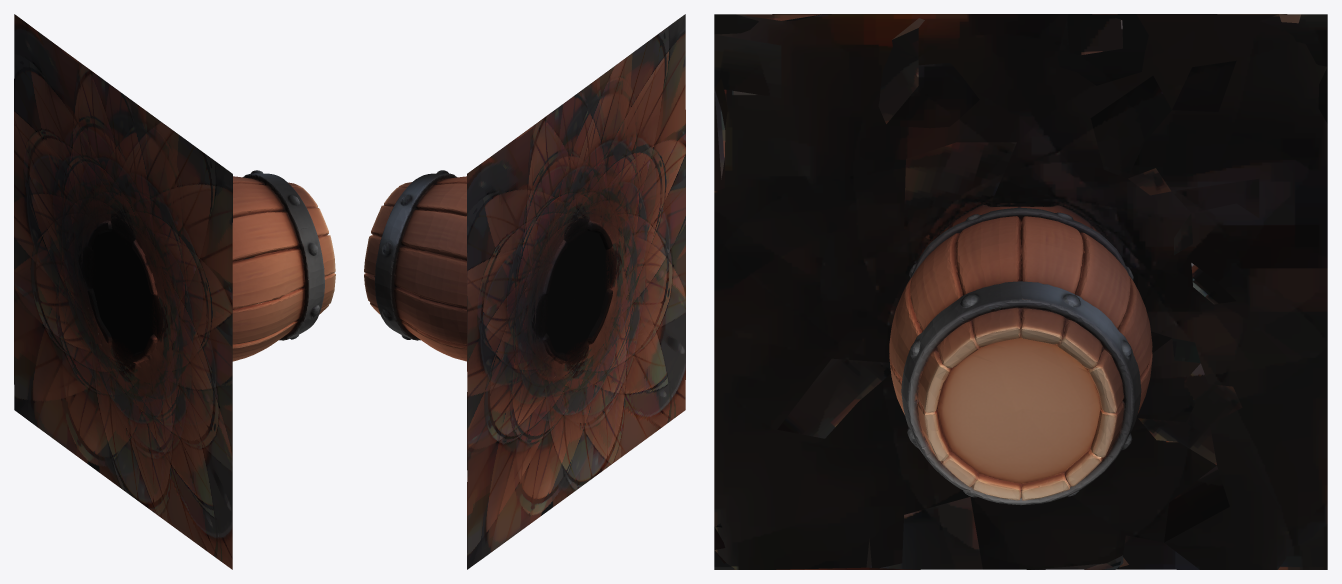
File: barrel_comfyui.glb
The picture shows the model from 3 angles, left to right: view 1: azimuth 30°, elevation 25°; view 2: azimuth 150°, elevation 25°; view 3: azimuth 270°, elevation 25°; orthographic projection. The views are drawn at different scales.
Bounding box in the file's own units: 0.4842 × 1 × 1.
Materials: 1 (1 with a texture image).
